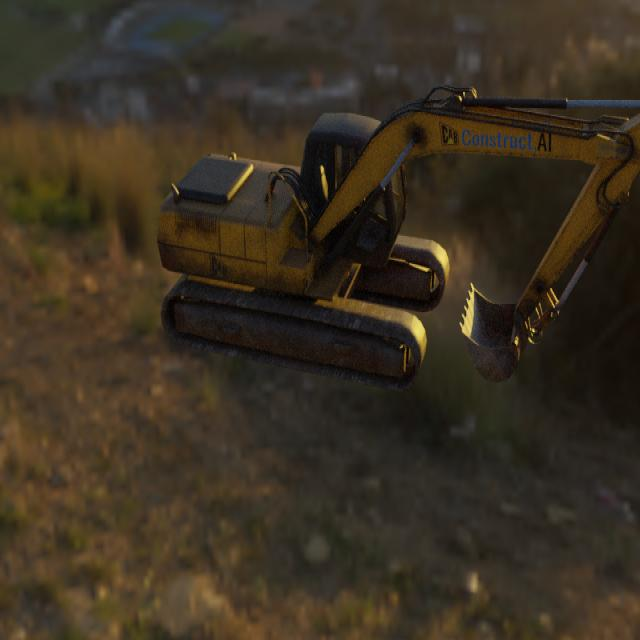excavator: (156, 83, 640, 392)
